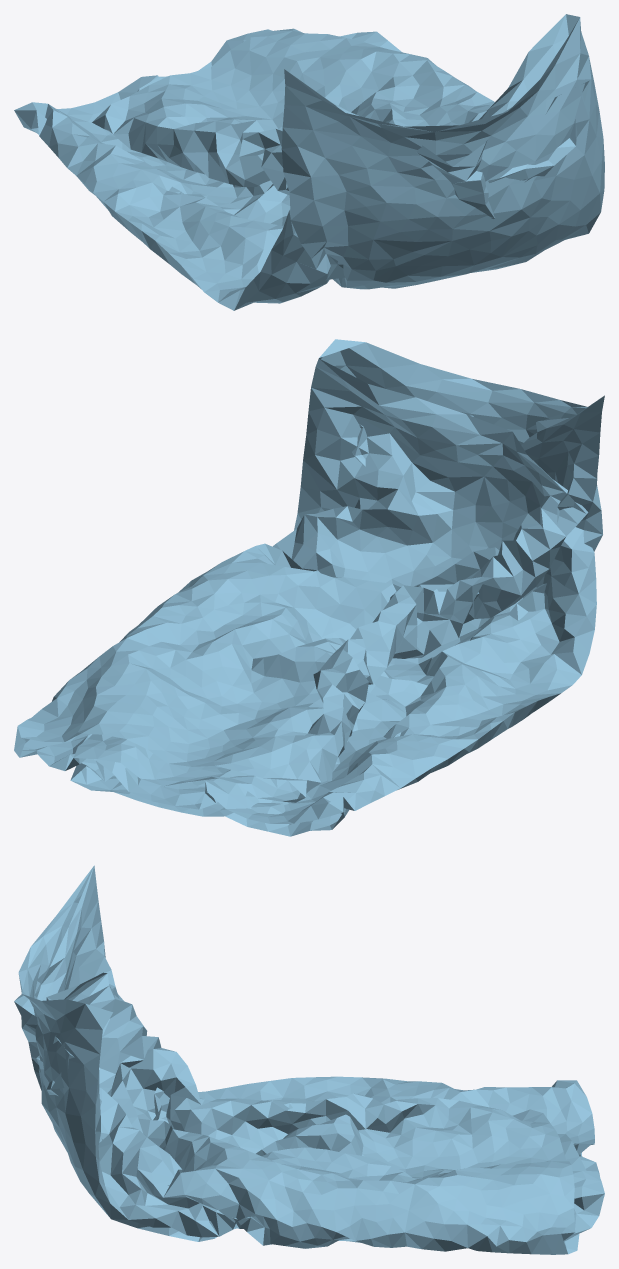
Rendered from frame_07.glb.
3 renders of one model, top to bottom at view 1: azimuth 30°, elevation 25°; view 2: azimuth 150°, elevation 25°; view 3: azimuth 270°, elevation 25°, orthographic. The views are drawn at different scales.
Parts seen in each view (by area): view 1: frame_07.obj; view 2: frame_07.obj; view 3: frame_07.obj.
Boxes of the visible parts, x1,y1,x2,y2 form: frame_07.obj: [14, 14, 604, 310]; frame_07.obj: [14, 339, 604, 836]; frame_07.obj: [14, 865, 604, 1254].
Size of the model in its own units: 0.9697 by 0.688 by 1.47.
